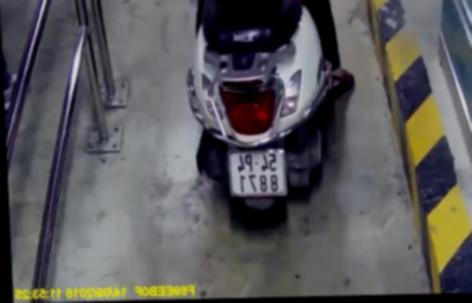License_Plate: (225, 148, 296, 203)
